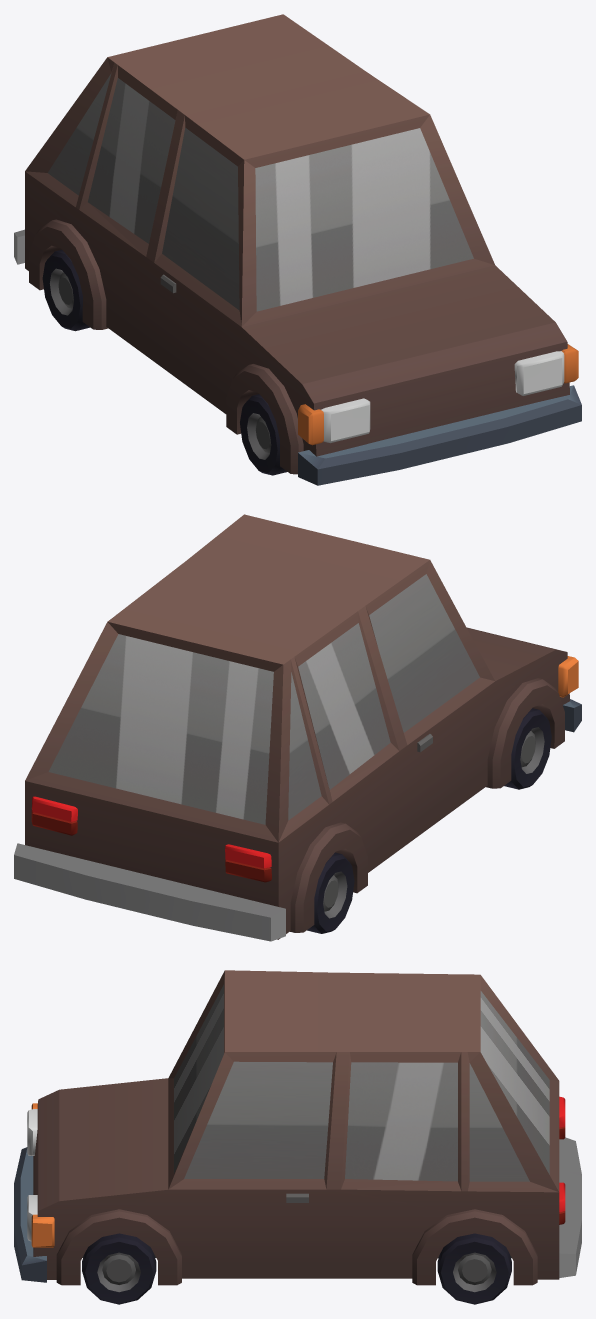
The model's file is Car_1_18.glb.
3 views of the same model, one above another, from view 1: azimuth 30°, elevation 25°; view 2: azimuth 150°, elevation 25°; view 3: azimuth 270°, elevation 25° (orthographic). The views are drawn at different scales.
Visible parts, largest first — view 1: Car_1_18, Wheel_Br, Wheel_Fr; view 2: Car_1_18, Wheel_Fr, Wheel_Br; view 3: Car_1_18, Wheel_Fl, Wheel_Bl.
Boxes of the visible parts, <box> form: Car_1_18: <box>14,14,581,485</box>; Wheel_Br: <box>42,249,89,331</box>; Wheel_Fr: <box>240,394,287,475</box>; Car_1_18: <box>14,514,581,941</box>; Wheel_Fr: <box>504,708,551,789</box>; Wheel_Br: <box>307,852,354,933</box>; Car_1_18: <box>14,970,581,1285</box>; Wheel_Fl: <box>82,1233,156,1304</box>; Wheel_Bl: <box>437,1233,511,1304</box>.
Bounding box in the file's own units: 1.05 × 0.9433 × 2.07.
Materials: 4 (4 with a texture image).
